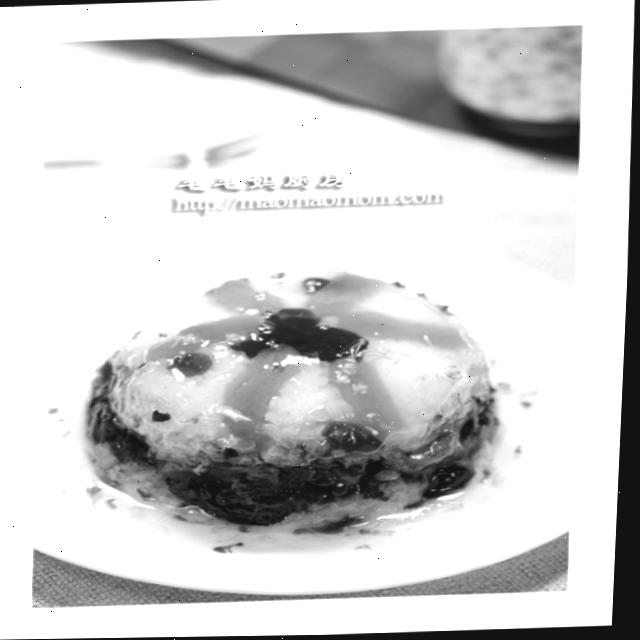米饭主食: (52, 229, 555, 571)
